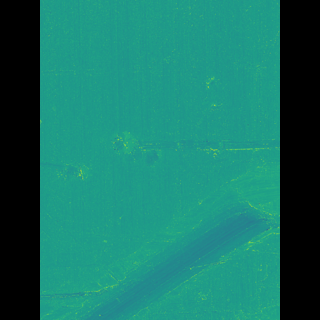Loch: (70, 157, 249, 320), (141, 122, 250, 162), (120, 126, 160, 168), (81, 154, 108, 186)
